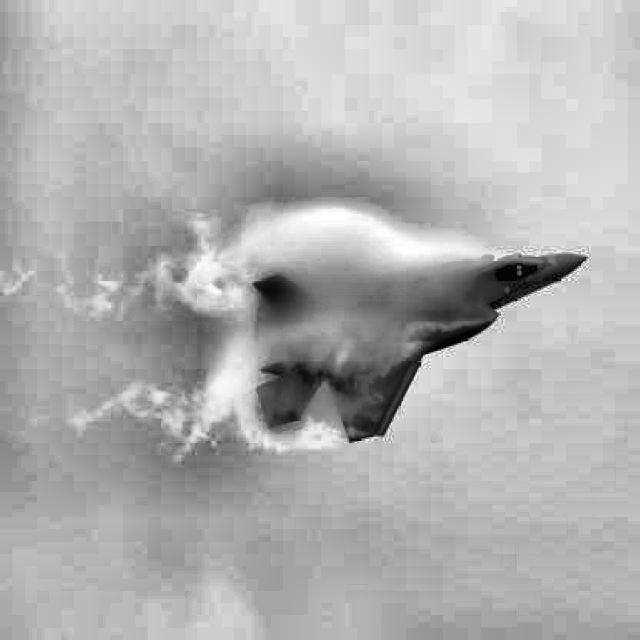F35: (252, 253, 588, 444)
